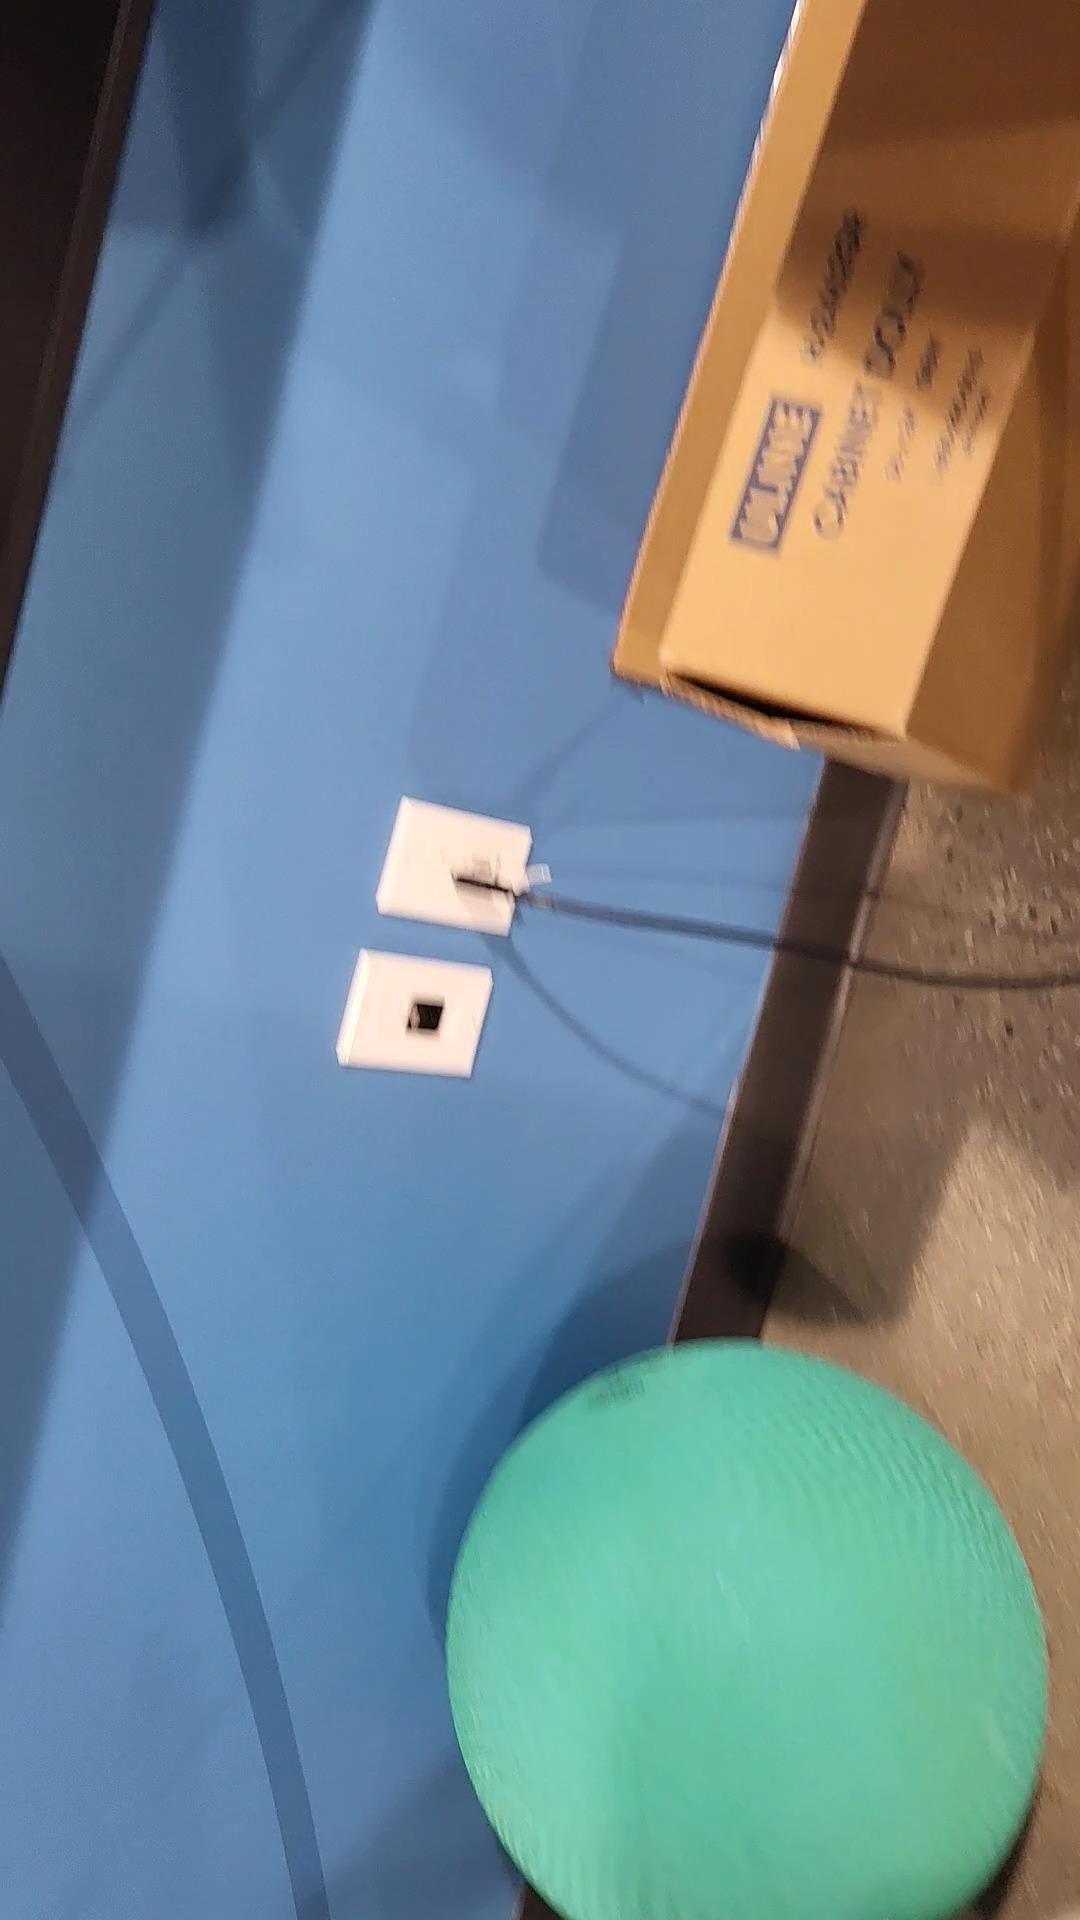algae: (447, 1340, 1043, 1920)
